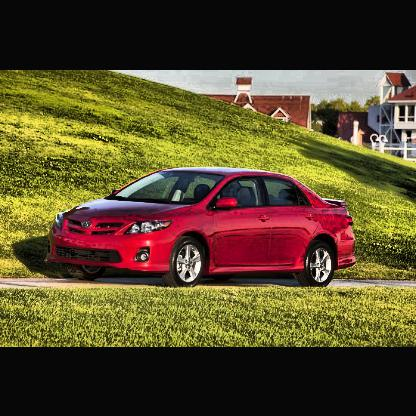Toyota Corolla Sedan 2012: (45, 164, 362, 289)
